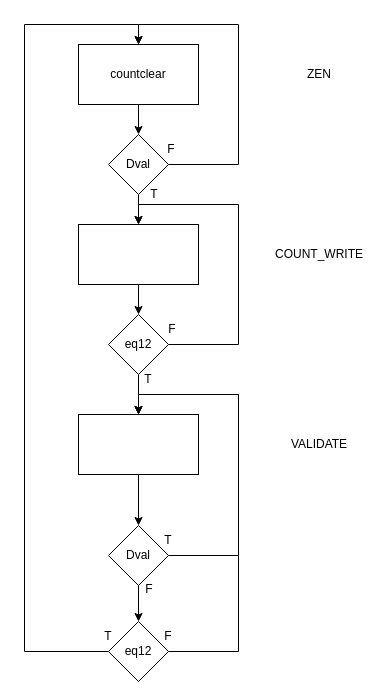
Image size: 392x699. Some labels were removed from this diagram. Here are the shapes that lost their labels. From the top down, the box of each, then its label:
(78, 224, 198, 284): Wrl
(78, 414, 198, 474): done
